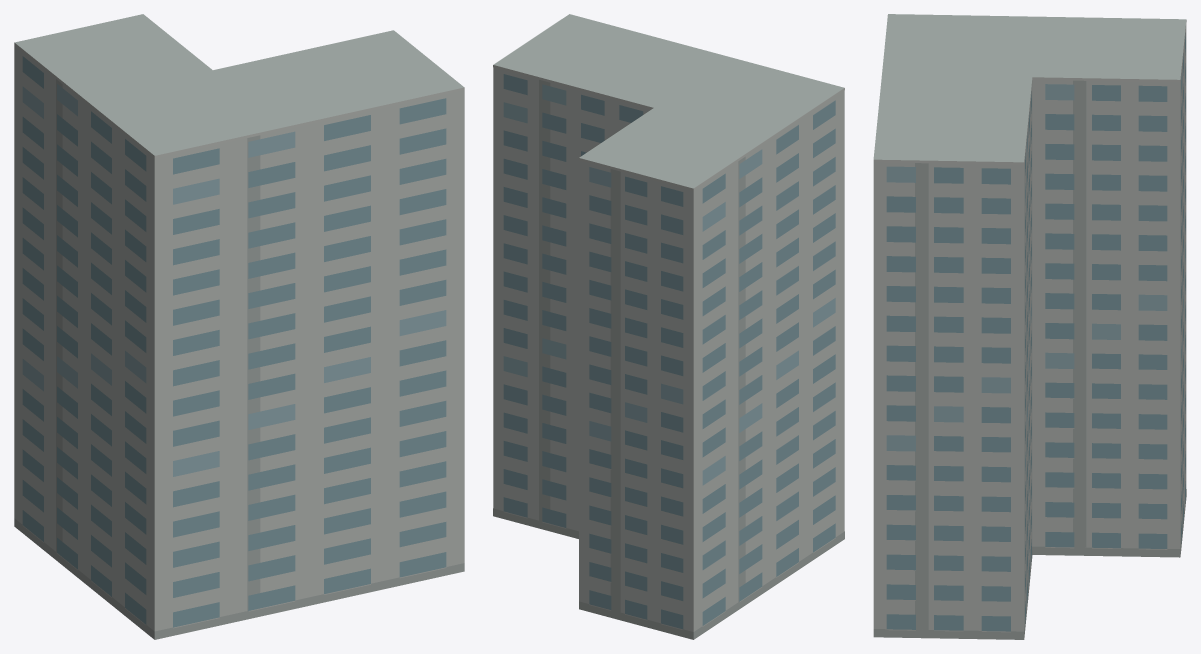
Rendered from residential-4942d15f-d4a3-4bff-8657-0d10dc5c2229.glb.
The picture shows the model from 3 angles, left to right: view 1: azimuth 30°, elevation 25°; view 2: azimuth 150°, elevation 25°; view 3: azimuth 270°, elevation 25°; orthographic projection. The views are drawn at different scales.
Visible parts, largest first — view 1: residential-4942d15f-d4a3-4bff-8657-0d10dc5c2229.tmp; view 2: residential-4942d15f-d4a3-4bff-8657-0d10dc5c2229.tmp; view 3: residential-4942d15f-d4a3-4bff-8657-0d10dc5c2229.tmp.
Boxes of the visible parts, x1,y1,x2,y2 form: residential-4942d15f-d4a3-4bff-8657-0d10dc5c2229.tmp: [14, 14, 464, 639]; residential-4942d15f-d4a3-4bff-8657-0d10dc5c2229.tmp: [493, 14, 844, 639]; residential-4942d15f-d4a3-4bff-8657-0d10dc5c2229.tmp: [873, 14, 1186, 639].
Bounding box in the file's own units: 29.32 × 44 × 26.14.
